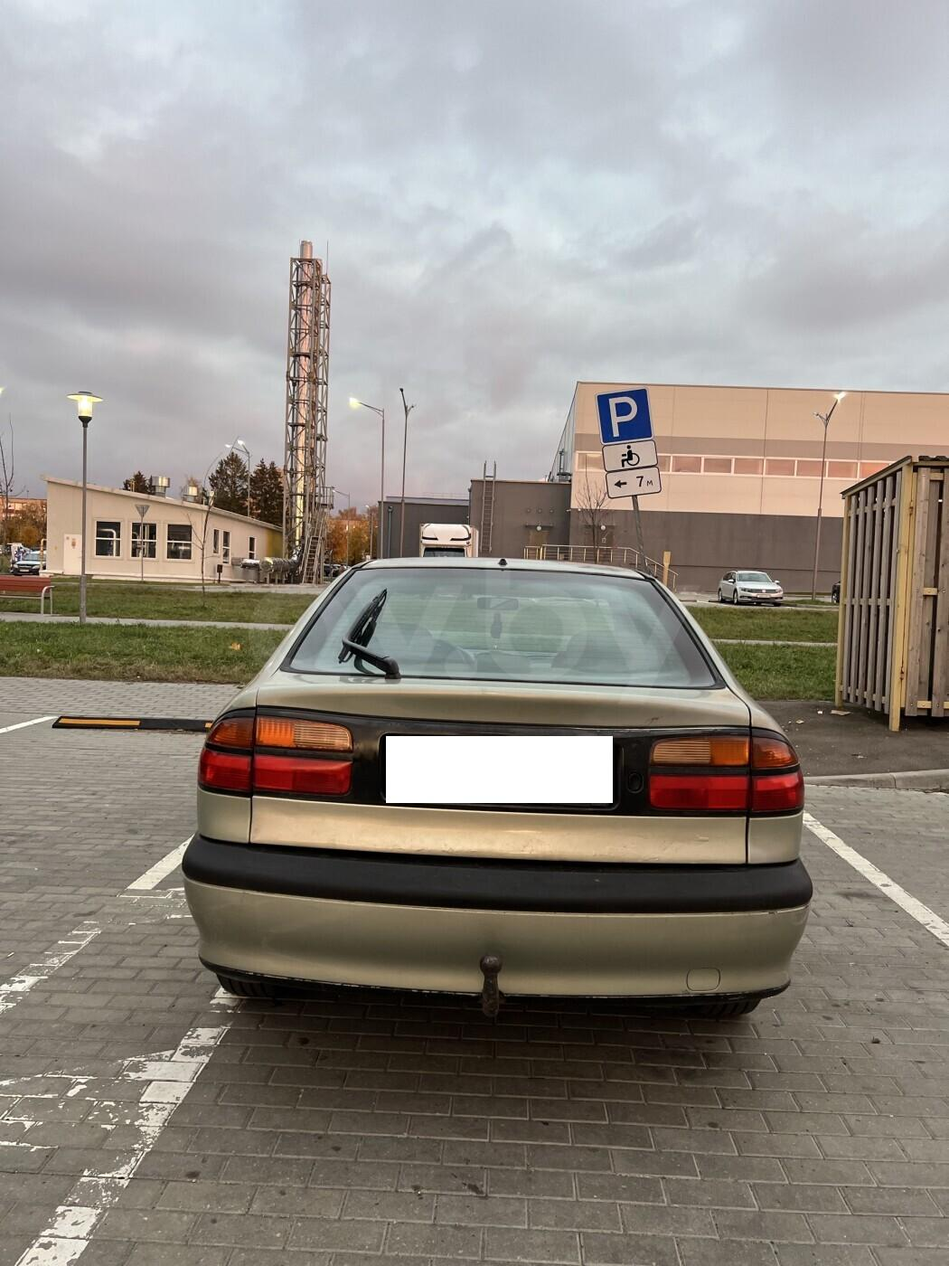Laguna_1998-2001: (181, 552, 824, 1031)
